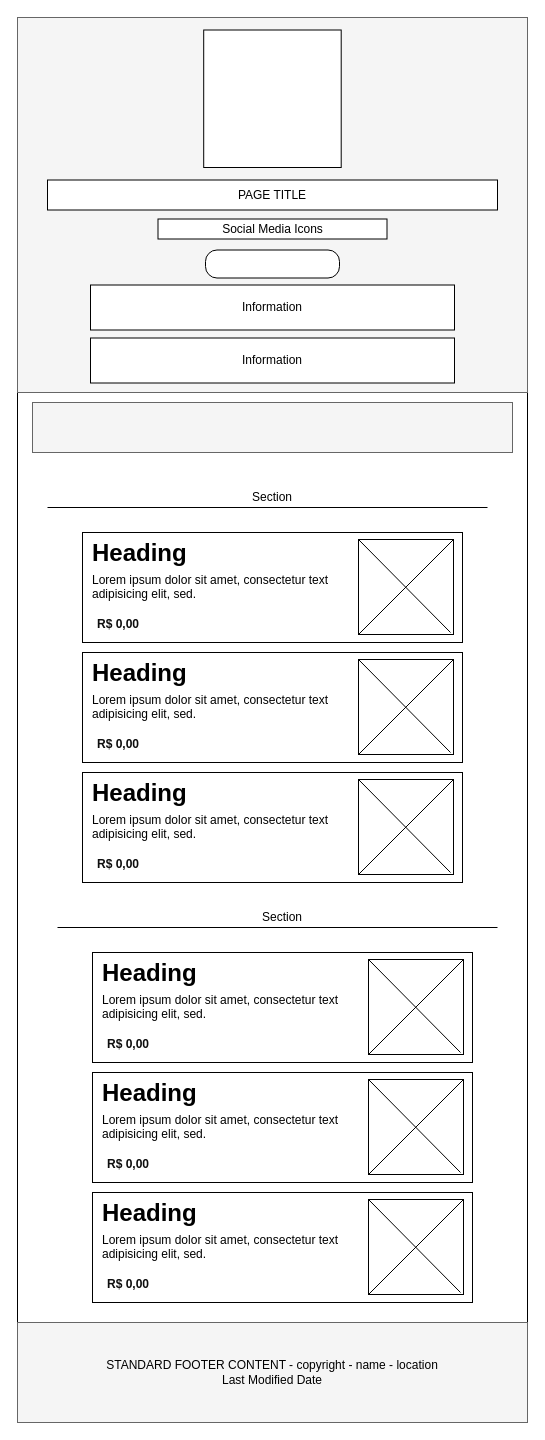
This 545x1440 diagram has some shape labels left out. The centre of each missing label's shape, as x and y in pixels:
"LOGO" goes at pixel 272 98.
"Menu / Sections" goes at pixel 272 427.
"Online Status" goes at pixel 272 263.
